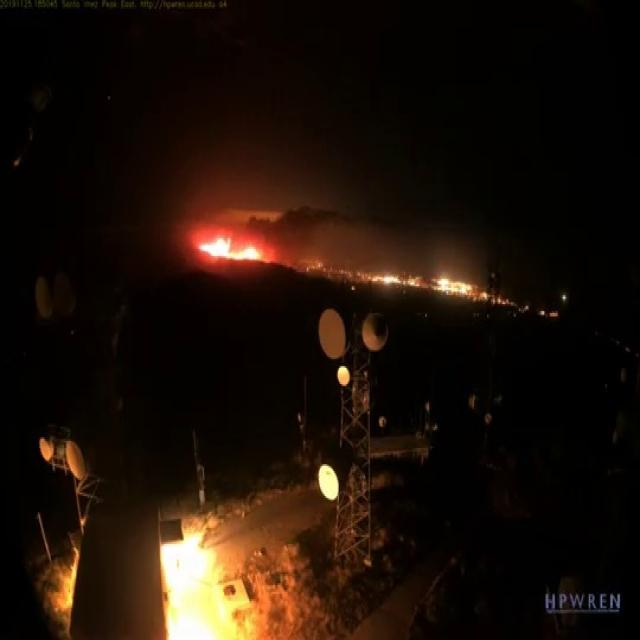Fire: (194, 233, 264, 265)
Smoke: (254, 192, 464, 252)
